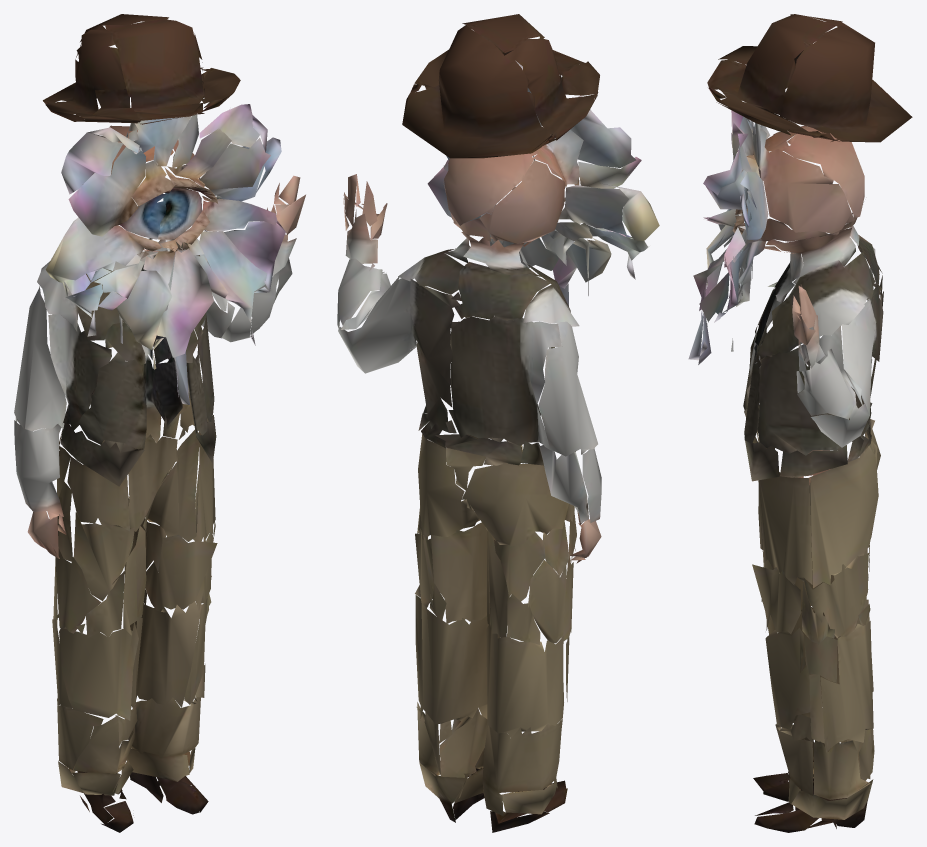
Rendered from crowd_annieh.glb.
The picture shows the model from 3 angles, left to right: view 1: azimuth 30°, elevation 25°; view 2: azimuth 150°, elevation 25°; view 3: azimuth 270°, elevation 25°; orthographic projection.
Parts seen in each view (by area): view 1: tripo_node_1126258b-1cb4-43a4-b5b0-aa4036e8409b; view 2: tripo_node_1126258b-1cb4-43a4-b5b0-aa4036e8409b; view 3: tripo_node_1126258b-1cb4-43a4-b5b0-aa4036e8409b.
Boxes of the visible parts, <box> form: tripo_node_1126258b-1cb4-43a4-b5b0-aa4036e8409b: <box>14,14,305,832</box>; tripo_node_1126258b-1cb4-43a4-b5b0-aa4036e8409b: <box>337,14,659,832</box>; tripo_node_1126258b-1cb4-43a4-b5b0-aa4036e8409b: <box>688,14,912,832</box>.
Size of the model in its own units: 0.7277 by 1.88 by 0.4842.
Materials: 1 (1 with a texture image).
